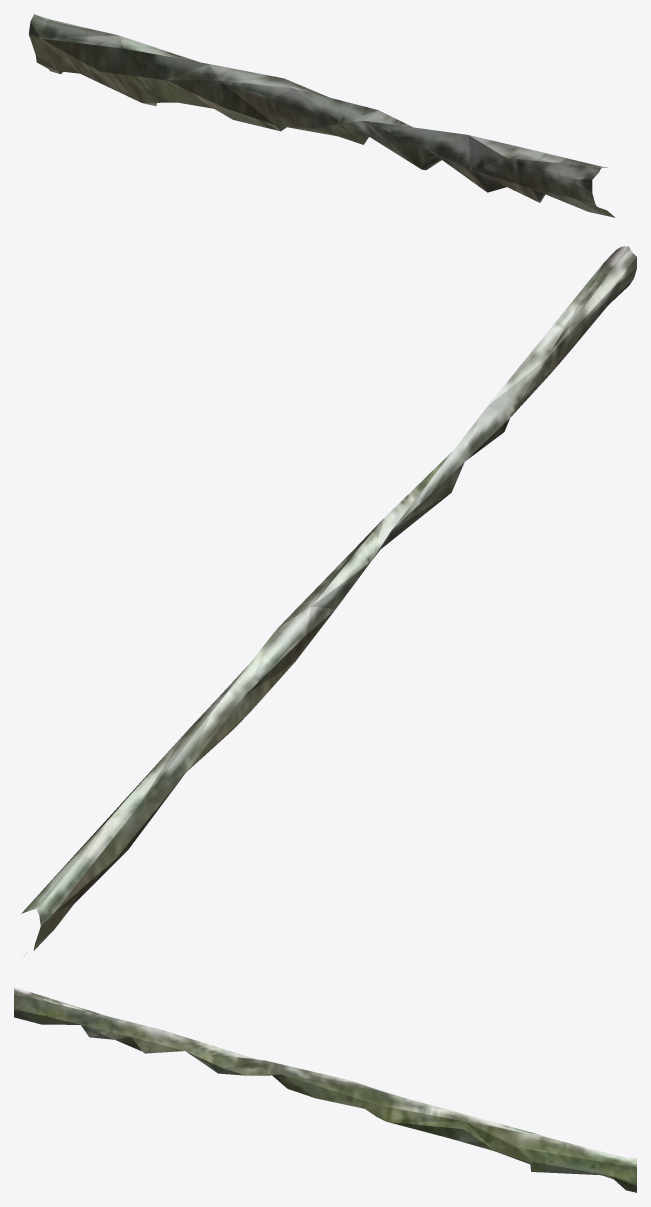
3 views of the same model, one above another, from view 1: azimuth 30°, elevation 25°; view 2: azimuth 150°, elevation 25°; view 3: azimuth 270°, elevation 25° (orthographic). The views are drawn at different scales.
Size of the model in its own units: 0.493 by 1.97 by 5.9.
1 material, 1 textured.
